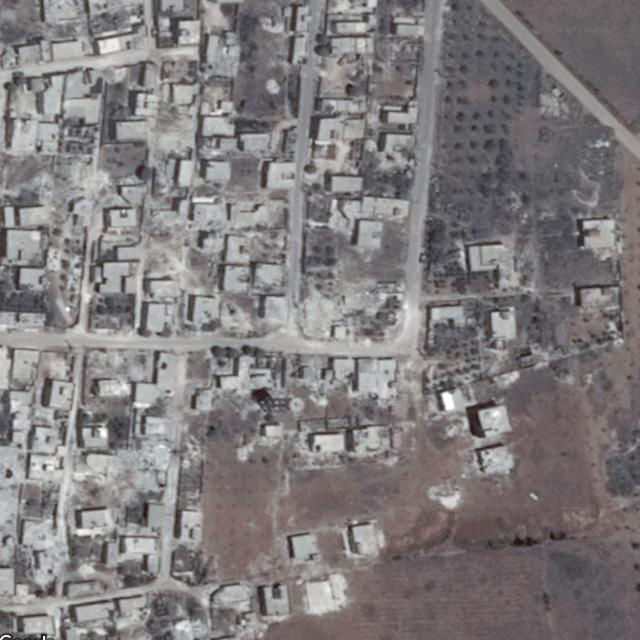damaged_building: (68, 437, 171, 505), (296, 275, 384, 341), (144, 197, 232, 250), (37, 156, 116, 215), (470, 443, 516, 483)
